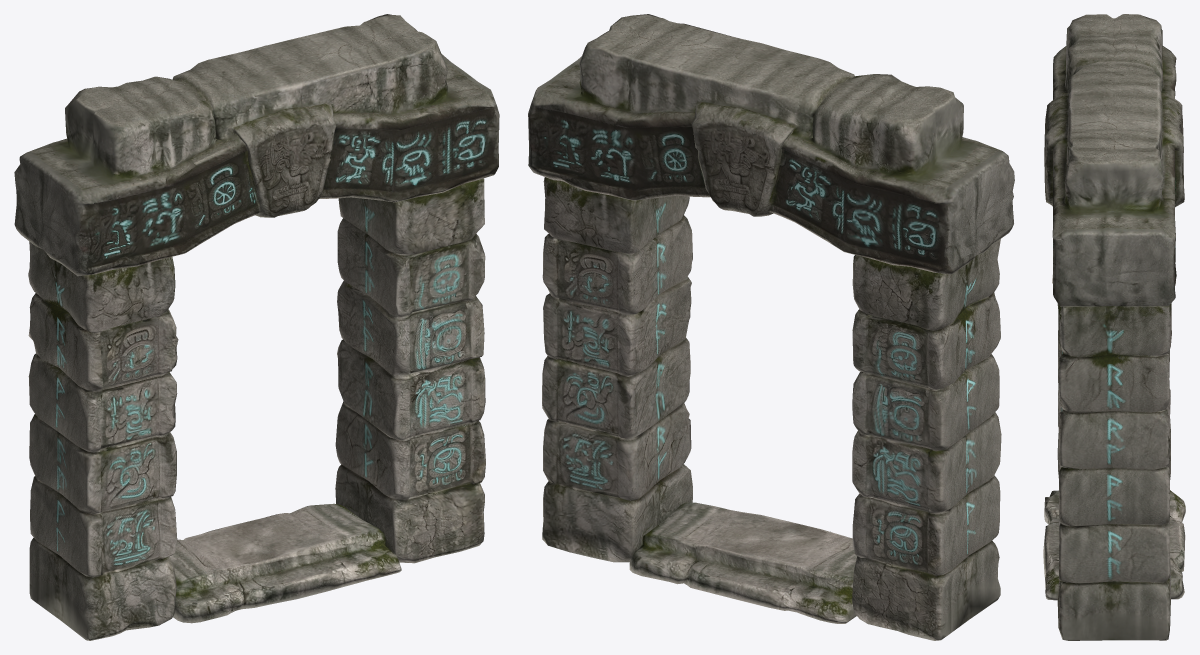
The model's file is magic_portal.glb.
3 views of the same model, side by side, from view 1: azimuth 30°, elevation 25°; view 2: azimuth 150°, elevation 25°; view 3: azimuth 270°, elevation 25° (orthographic). The views are drawn at different scales.
Size of the model in its own units: 0.835 by 0.9521 by 0.2646.
Materials: 1 (1 with a texture image).
